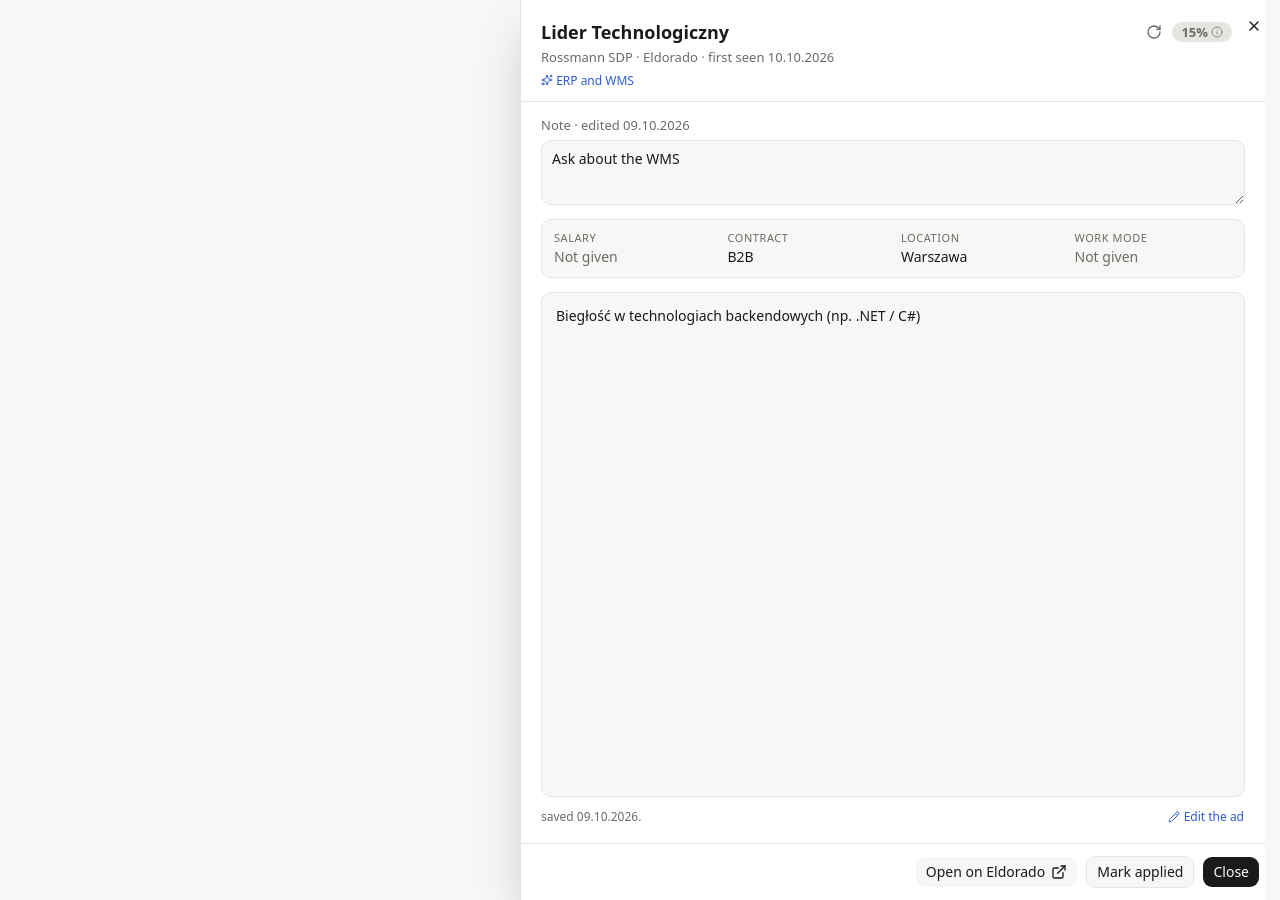
Test: an offer window › a failed mark says why and stays open
The width and height of the screenshot is (1280, 900).
Click the button "Mark applied" at (1140, 872), box [1086,856,1194,888]
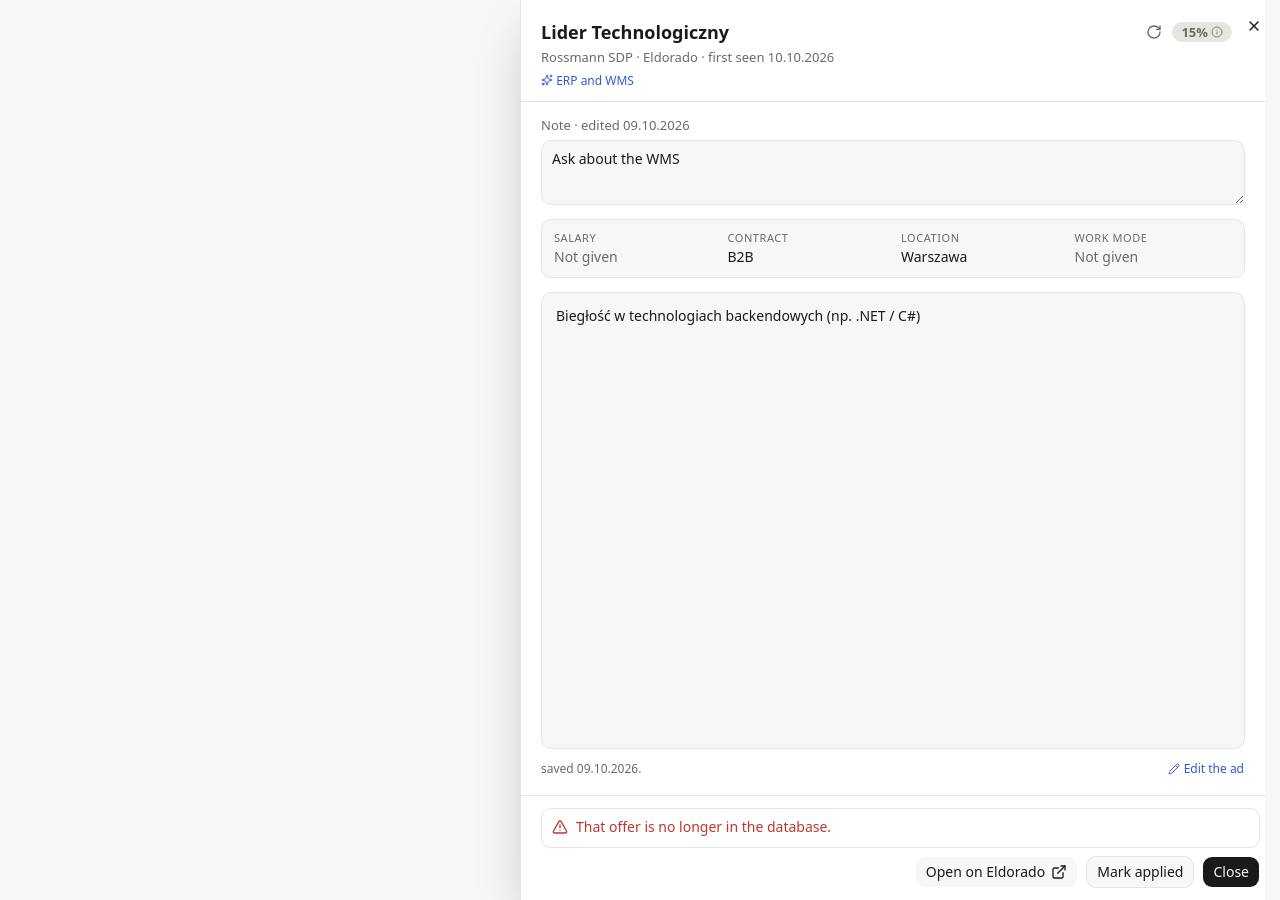
expect the text "That offer is no longer in the database." is shown: met, box [576,817,831,836]
